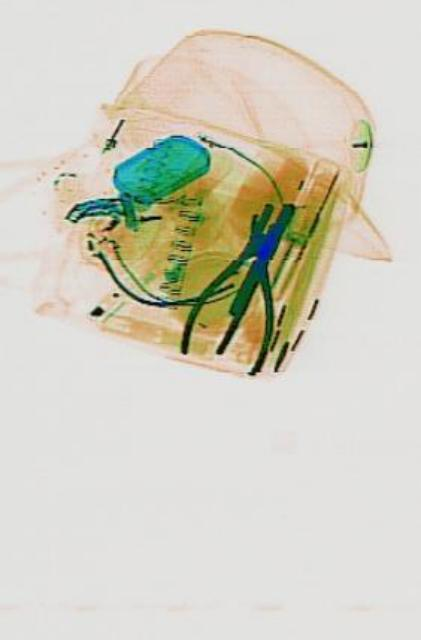Pliers: (173, 165, 312, 399)
